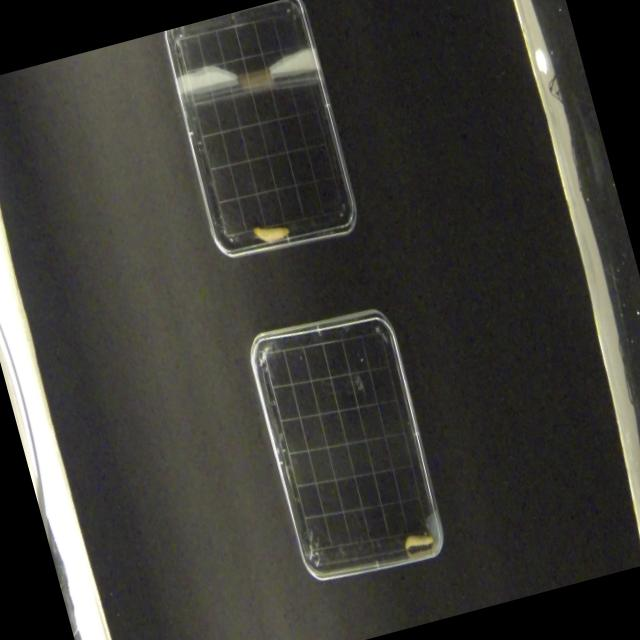larva: (251, 217, 291, 246), (400, 524, 437, 554)
